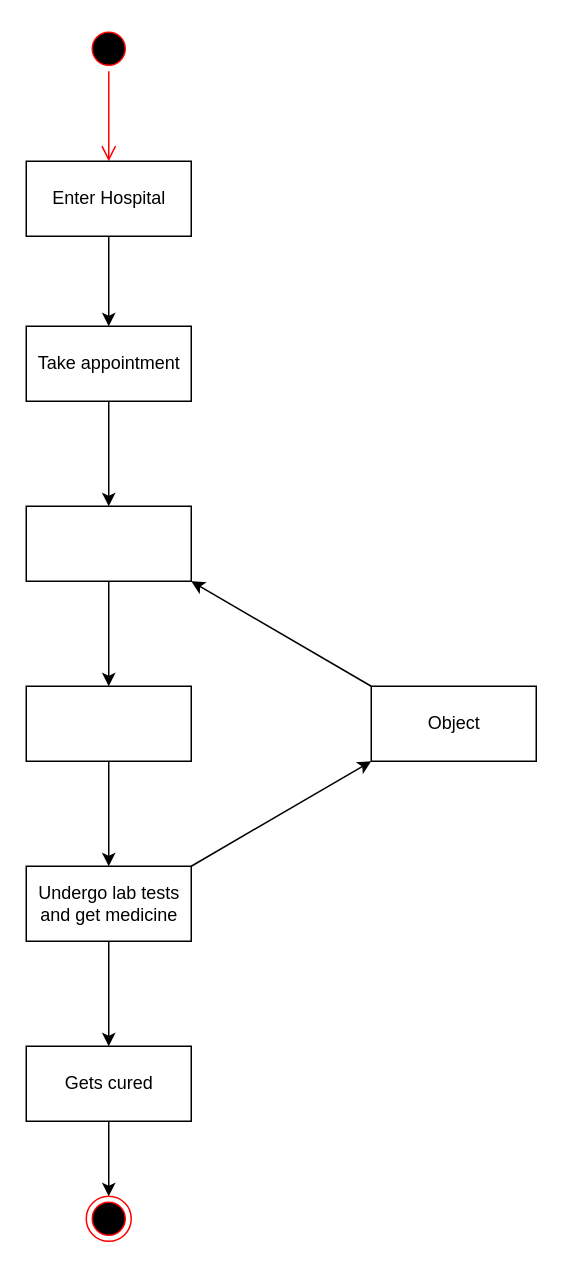
This 563x1268 diagram has some shape labels left out. The shapes that lost their labels are listed below. From the top down, each one's box as (x1, y1, x2, y2) in pixels, then its label:
(25, 505, 191, 581): Undergo diagnosis
(25, 685, 191, 761): Take treatments
